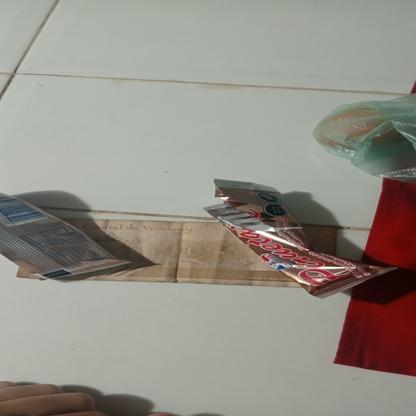five-back-vef: (15, 216, 336, 288)
